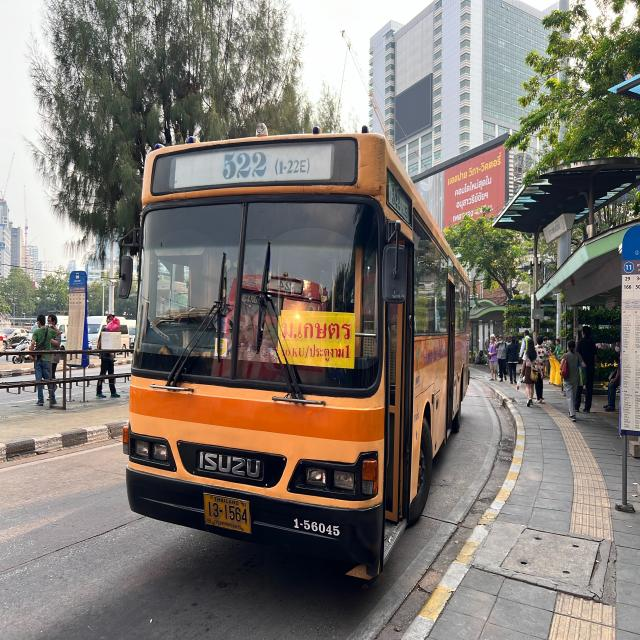BMTA-bus: (111, 109, 478, 603)
Bus-Line-Number: (216, 152, 319, 179)
Destination-Sign-Extra-Bus-Expressway: (275, 316, 355, 369)
